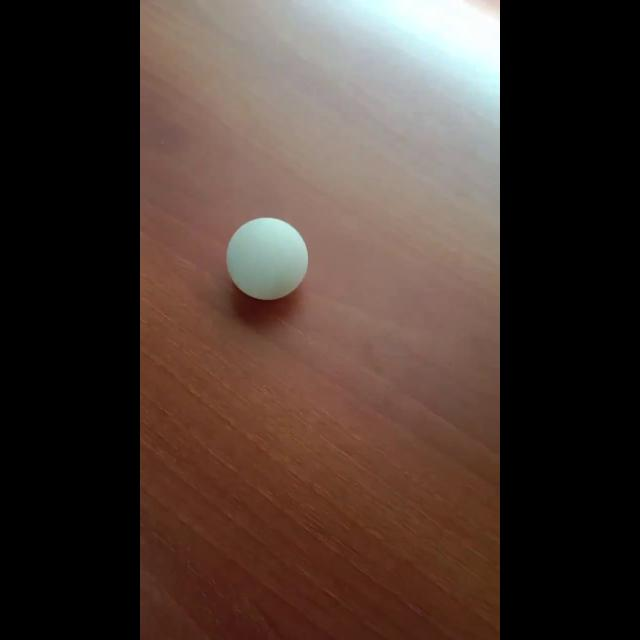white ball: (226, 217, 308, 301)
